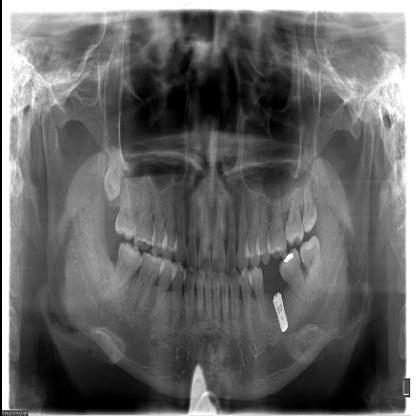ITI: (269, 286, 287, 338)
